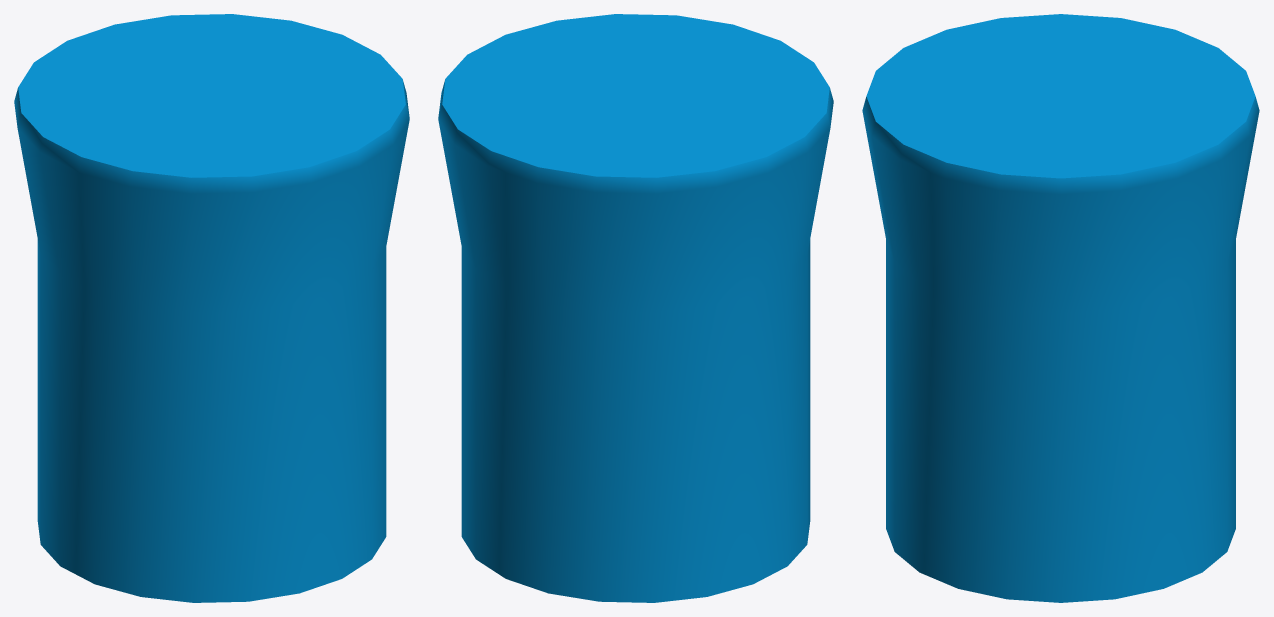
The model's file is Bridge_Pillar_01.fbx.
3 views of the same model, side by side, from view 1: azimuth 30°, elevation 25°; view 2: azimuth 150°, elevation 25°; view 3: azimuth 270°, elevation 25° (orthographic).
Parts seen in each view (by area): view 1: Bridge_Pillar_01; view 2: Bridge_Pillar_01; view 3: Bridge_Pillar_01.
Part boxes in pixels (x1=…): Bridge_Pillar_01: x1=14, y1=14, x2=409, y2=602; Bridge_Pillar_01: x1=438, y1=14, x2=833, y2=602; Bridge_Pillar_01: x1=862, y1=14, x2=1259, y2=602.
Size of the model in its own units: 10.19 by 12.25 by 10.19.
